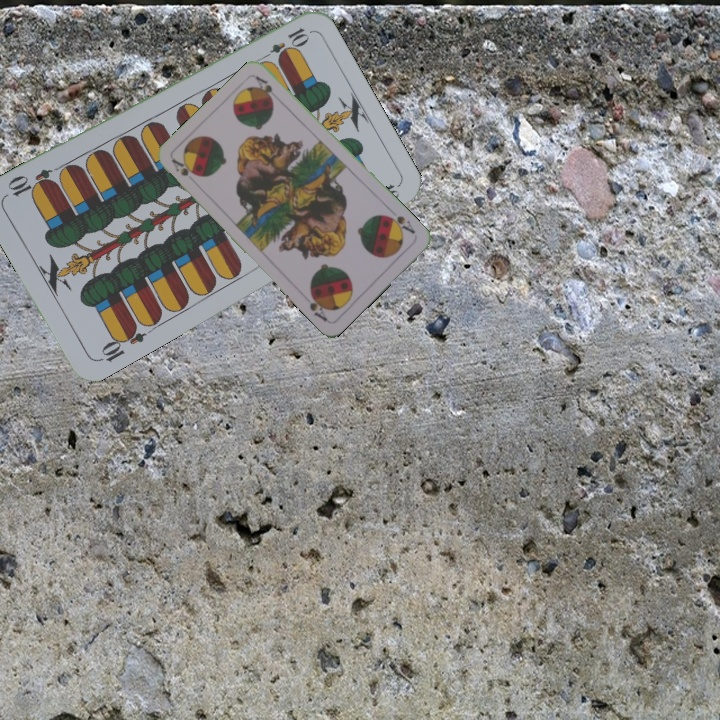E10: (94, 320, 148, 365), (256, 23, 311, 65)
SA: (167, 154, 201, 187), (382, 211, 418, 237)
